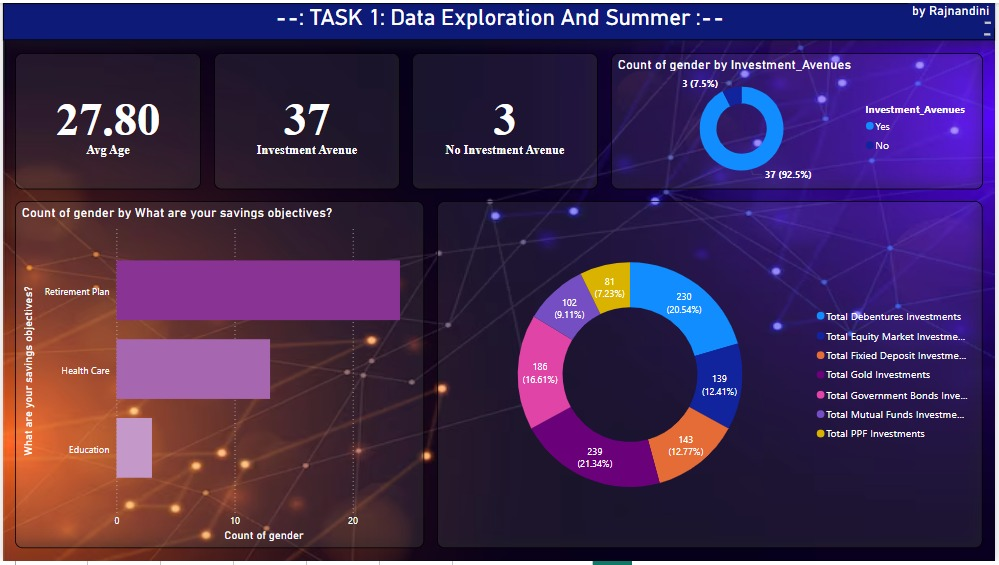

Layout of this report page (visuals, bound fields, positions):
{"tool":"powerbi","page":{"name":"Task 1","canvas":[1280,720],"ordinal":0},"visuals":[{"type":"textbox","title":"--: TASK 1: Data Exploration And Summer :--","box":[0,0,1280,48],"z":0},{"type":"card","fields":{"Values":["Data_set 2.age"]},"box":[16,64,240,176],"z":1000},{"type":"card","fields":{"Values":["Data_set 2.Investment Avenue"]},"box":[272,64,240,176],"z":2000},{"type":"card","fields":{"Values":["Data_set 2.No Investment Avenue"]},"box":[528,64,240,176],"z":3000},{"type":"donutChart","fields":{"Y":["Data_set 2.gender"],"Category":["Data_set 2.Investment_Avenues"]},"box":[784,64,480,176],"z":4000},{"type":"clusteredBarChart","fields":{"Y":["Data_set 2.gender"],"Category":["Data_set 2.What are your savings objectives?"]},"box":[16,256,528,448],"z":5000},{"type":"donutChart","fields":{"Y":["Data_set 2.Total Debentures","Data_set 2.Total Equity Market","Data_set 2.Total Fixied Deposit","Data_set 2.Total Gold","Data_set 2.Total Government Bonds","Data_set 2.Total Mutual Funds","Data_set 2.Total PPF Investments"]},"box":[560,256,704,448],"z":6000},{"type":"textbox","title":"by Rajnandini","box":[1168,0,112,32],"z":7000}]}

Visuals, with their boxes in screenshot pixels (x1, y1, x2, y2), scaled from the page's 1280x720 canvas onto the 999x565 screenshot:
"--: TASK 1: Data Exploration And Summer :--" textbox: <bbox>0, 0, 998, 38</bbox>
card - Data_set 2.age: <bbox>12, 50, 200, 188</bbox>
card - Data_set 2.Investment Avenue: <bbox>212, 50, 400, 188</bbox>
card - Data_set 2.No Investment Avenue: <bbox>412, 50, 599, 188</bbox>
donutChart - Data_set 2.gender x Data_set 2.Investment_Avenues: <bbox>612, 50, 987, 188</bbox>
clusteredBarChart - Data_set 2.gender x Data_set 2.What are your savings objectives?: <bbox>12, 201, 425, 552</bbox>
donutChart - Data_set 2.Total Debentures x Data_set 2.Total Equity Market: <bbox>437, 201, 987, 552</bbox>
"by Rajnandini" textbox: <bbox>912, 0, 998, 25</bbox>
